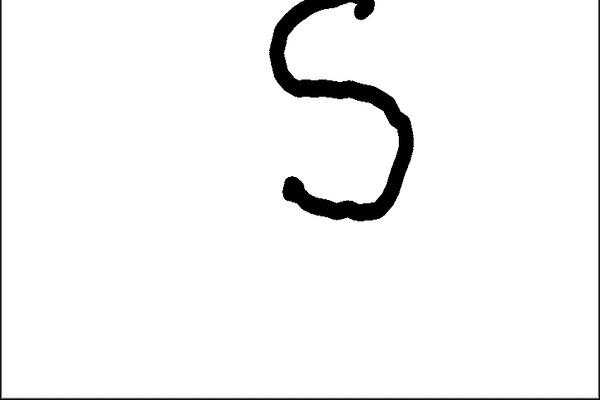S: (253, 0, 423, 229)
